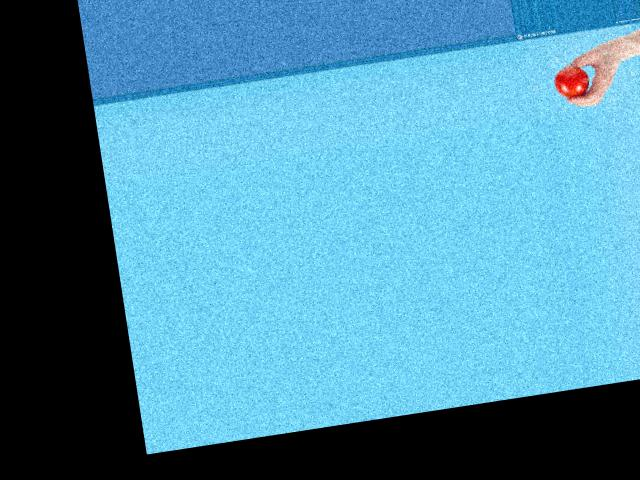tomato: (553, 65, 591, 99)
